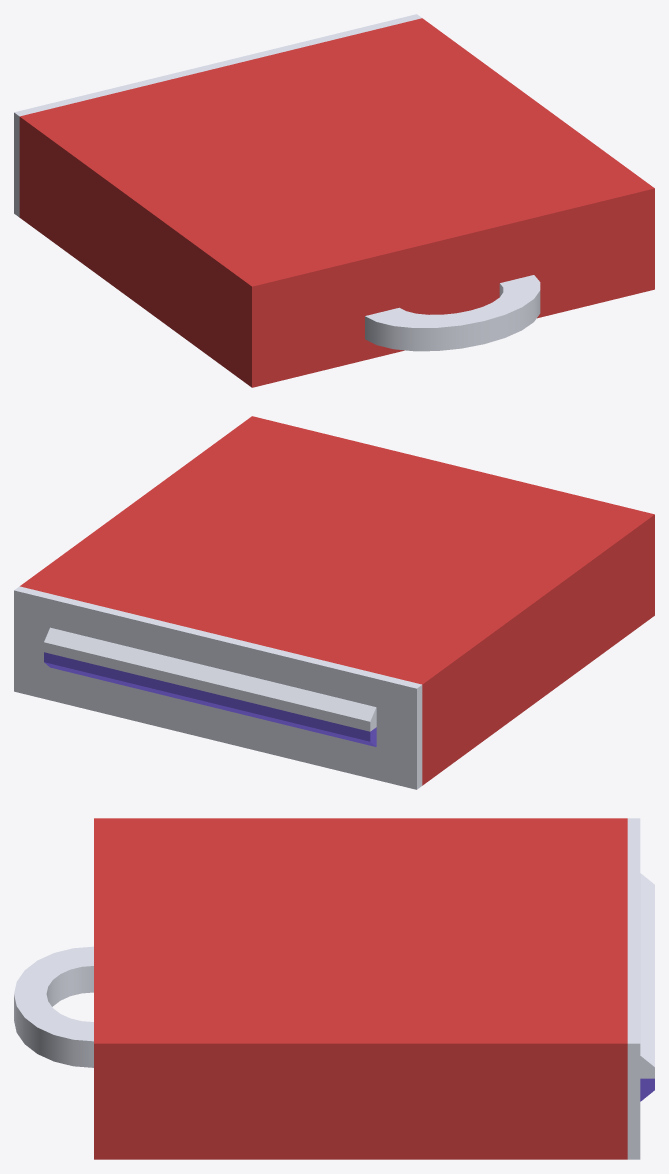
Rendered from suitcase.fbx.
3 views of the same model, one above another, from view 1: azimuth 30°, elevation 25°; view 2: azimuth 150°, elevation 25°; view 3: azimuth 270°, elevation 25° (orthographic). The views are drawn at different scales.
Parts seen in each view (by area): view 1: roof_flatOpen (×2), cylinderHollow_half, block; view 2: roof_flatOpen (×2), block, hull_tailSmall; view 3: roof_flatOpen (×2), cylinderHollow_half, block, hull_tailSmall.
Part boxes in pixels (left/top/right/bottom): roof_flatOpen (×2): left=19, top=18, right=654, bottom=387; cylinderHollow_half: left=365, top=275, right=540, bottom=351; block: left=14, top=14, right=421, bottom=217; roof_flatOpen (×2): left=20, top=416, right=654, bottom=785; block: left=14, top=586, right=422, bottom=789; hull_tailSmall: left=44, top=627, right=376, bottom=746; roof_flatOpen (×2): left=94, top=818, right=627, bottom=1159; cylinderHollow_half: left=14, top=946, right=93, bottom=1067; block: left=627, top=818, right=640, bottom=1159; hull_tailSmall: left=640, top=873, right=654, bottom=1101.
Size of the model in its own units: 10 by 2.4 by 12.01.
